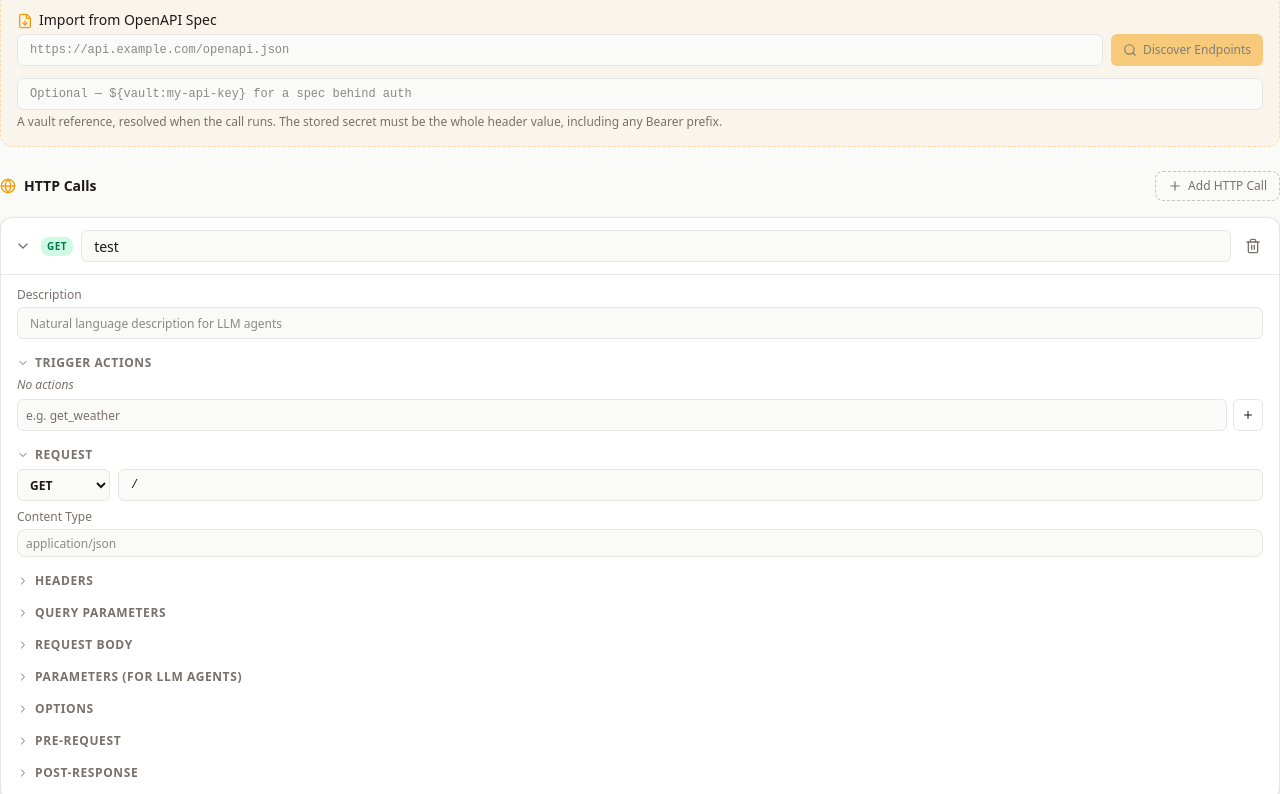
Test: ApiCallsEditor › shows iteration object name field when batch mode is on
This screenshot has width=1280, height=794.
(page scrolled)
Note: Options section is collapsed by default - open it first
Click the button "Options" at coordinates (55, 709), box [17,701,94,717]
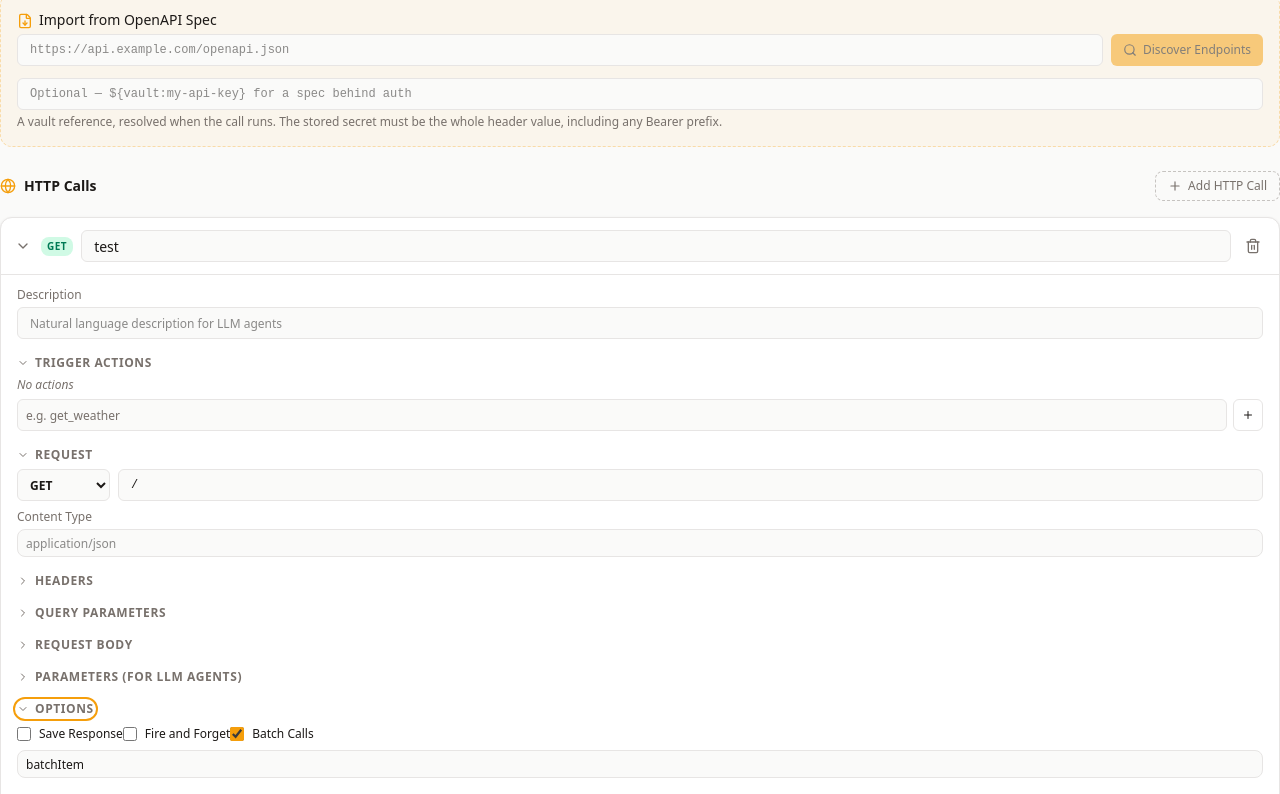
Check: the field showing "batchItem" below "Save Response" is shown, box [17,750,1263,778]
